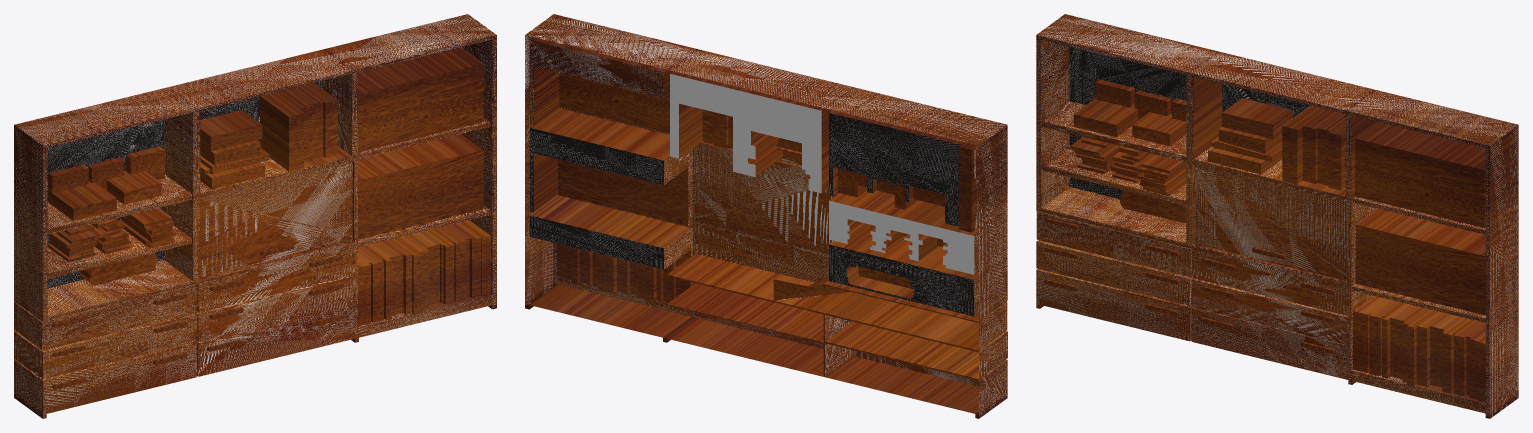
The picture shows the model from 3 angles, left to right: view 1: azimuth 30°, elevation 25°; view 2: azimuth 150°, elevation 25°; view 3: azimuth 330°, elevation 25°; orthographic projection.
Visible parts, largest first — view 1: mesh1_mesh1-geometry; view 2: mesh1_mesh1-geometry; view 3: mesh1_mesh1-geometry.
Boxes of the visible parts, left/top/right/bottom form: mesh1_mesh1-geometry: left=14, top=14, right=496, bottom=418; mesh1_mesh1-geometry: left=525, top=14, right=1007, bottom=418; mesh1_mesh1-geometry: left=1036, top=14, right=1518, bottom=418.
Size of the model in its own units: 0.8615 by 0.4957 by 0.1098.
